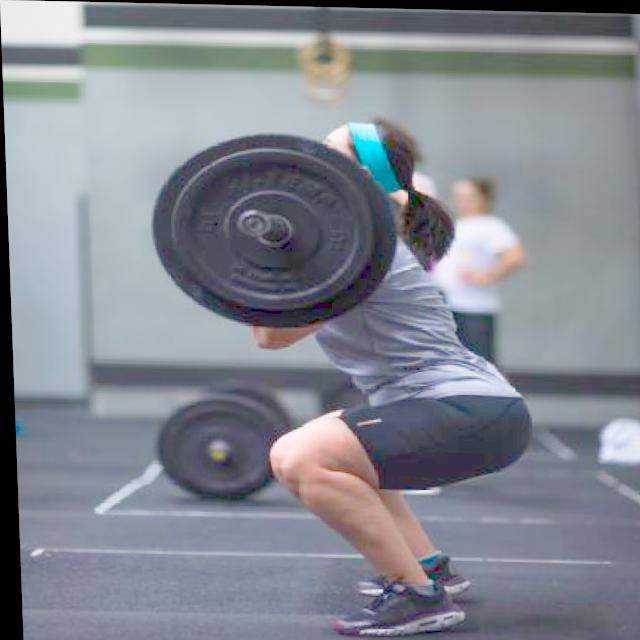barbell: (141, 123, 404, 331)
